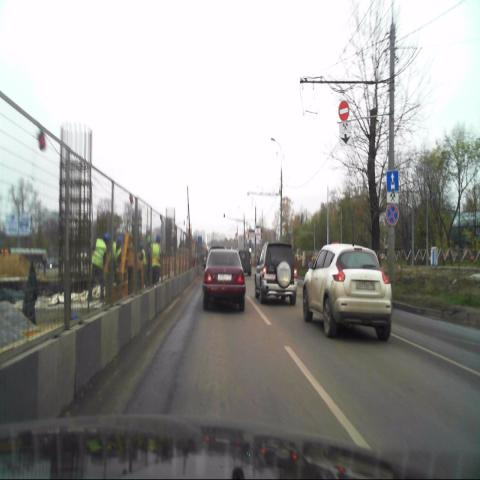5_14: (387, 171, 398, 191)
